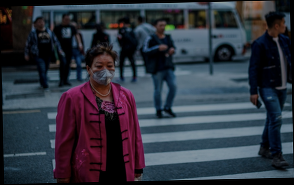with_mask: (92, 59, 116, 87)
without_mask: (279, 18, 288, 34), (157, 22, 167, 33), (63, 15, 71, 25), (37, 20, 45, 29)
